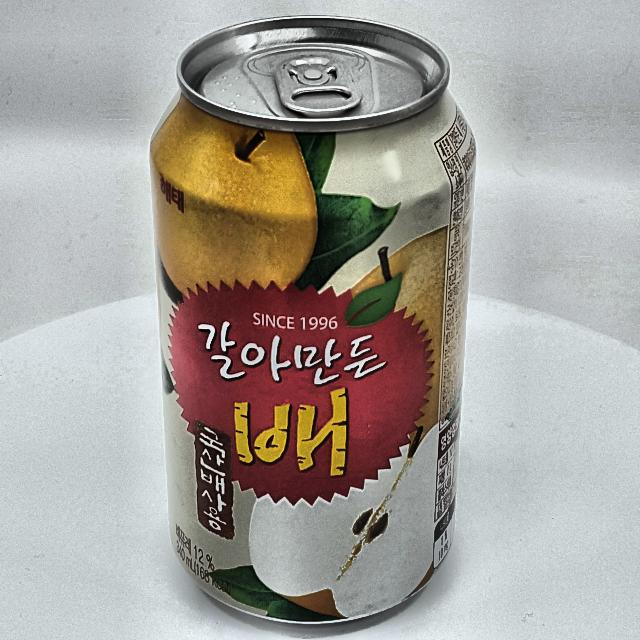galamandeunbae: (151, 1, 476, 623)
